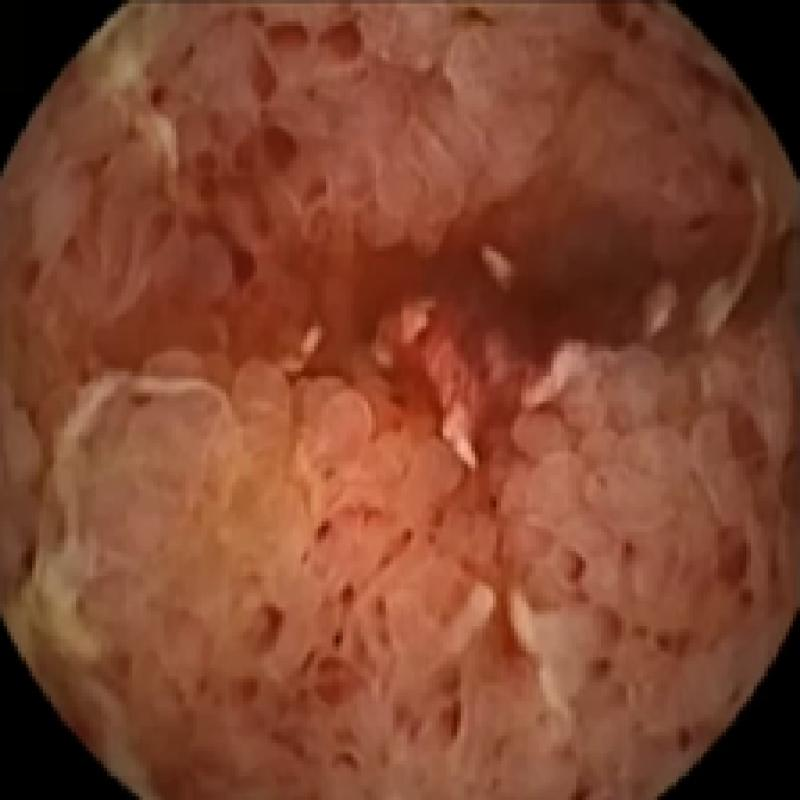bleeding: (71, 0, 800, 754)
